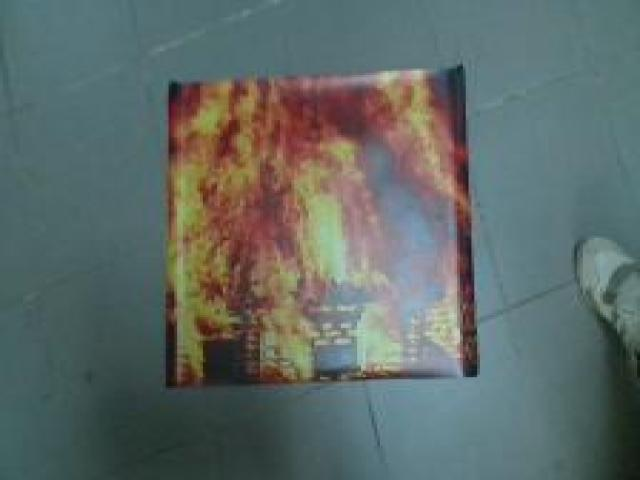fire-poster: (160, 62, 480, 390)
